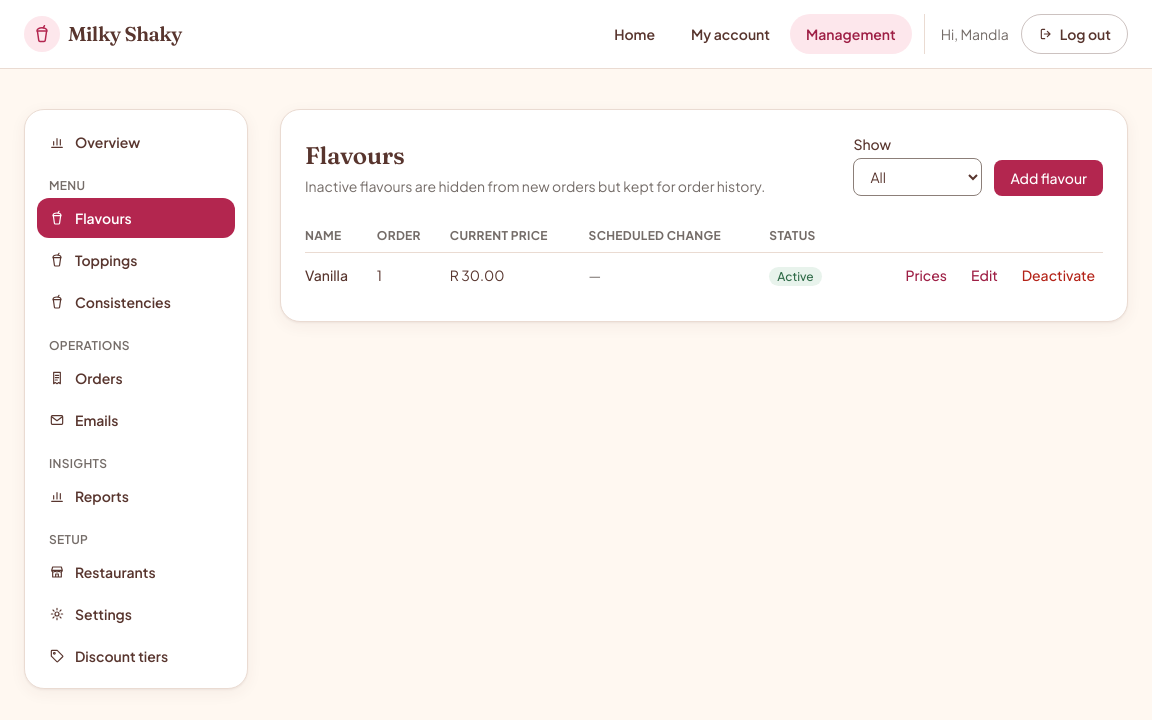
Test: catalogue management › asks for confirmation before deactivating
Click the button with aria-label "Deactivate Vanilla" at (1058, 275), box [1014, 261, 1103, 289]
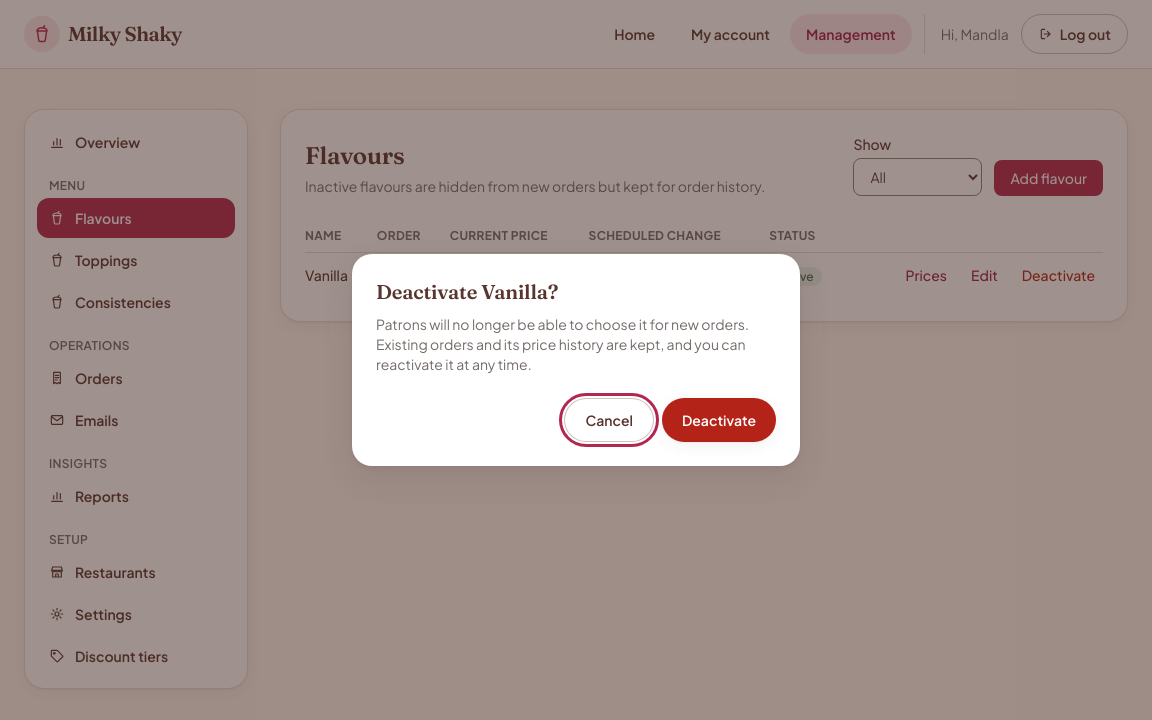
Click the button "Cancel" at (609, 420), box [564, 398, 654, 442]
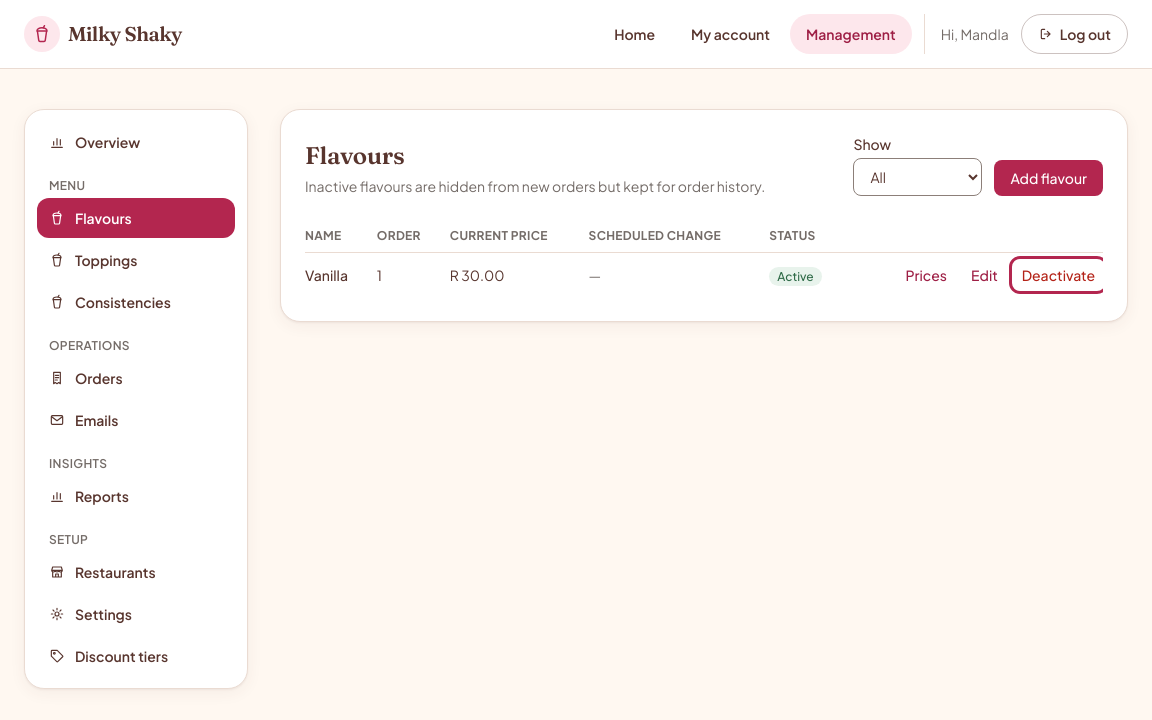
Expected: the dialog is gone
Click the button with aria-label "Deactivate Vanilla" at (1058, 275), box [1014, 261, 1103, 289]
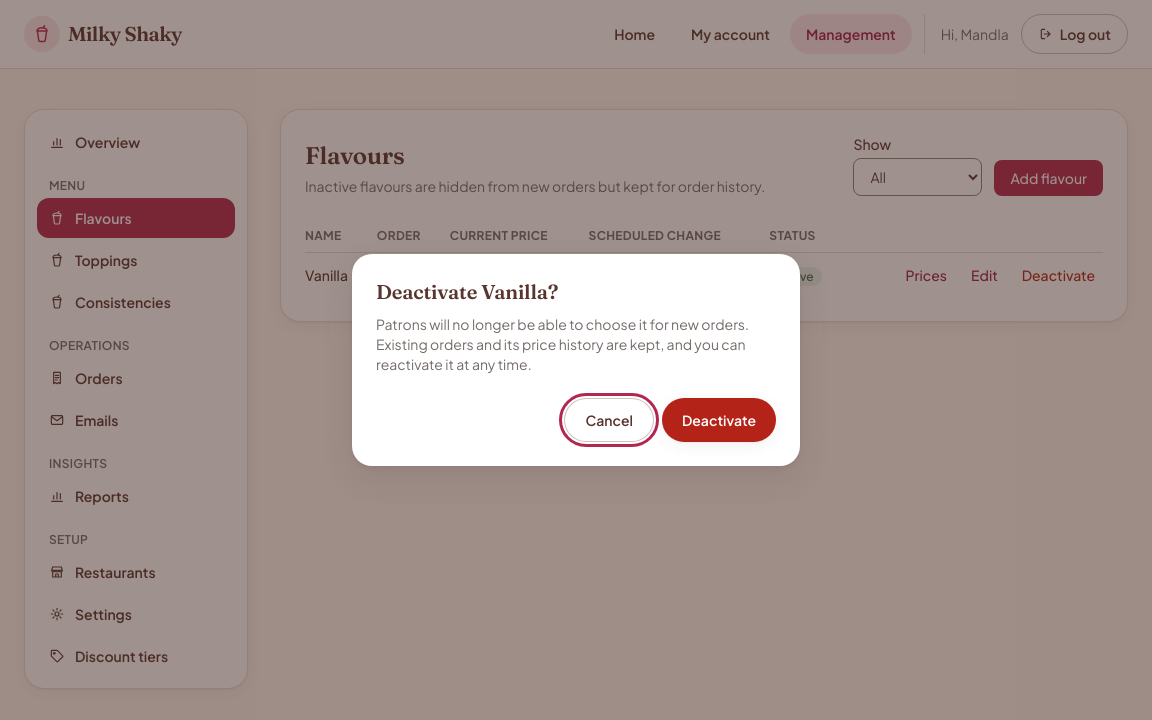
Click the button "Deactivate" at (719, 420), box [662, 398, 776, 442]
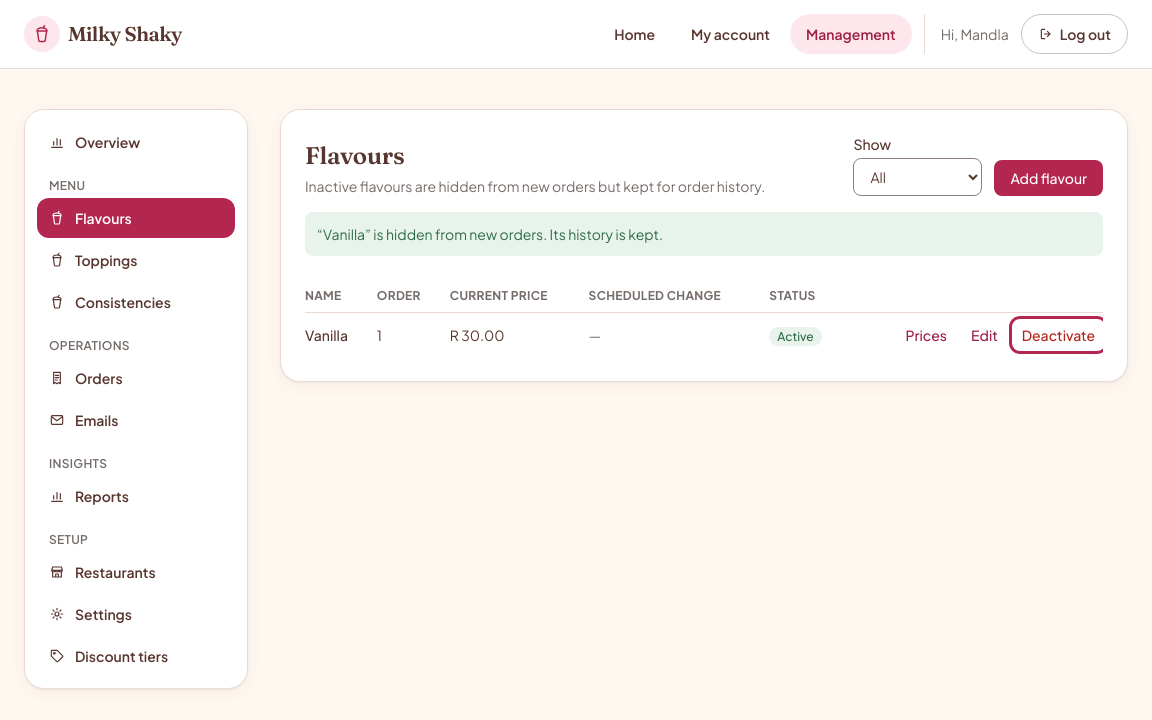
Expected: the text "“Vanilla” is hidden from new orders. Its history is kept." is shown, [305, 212, 1103, 256]
